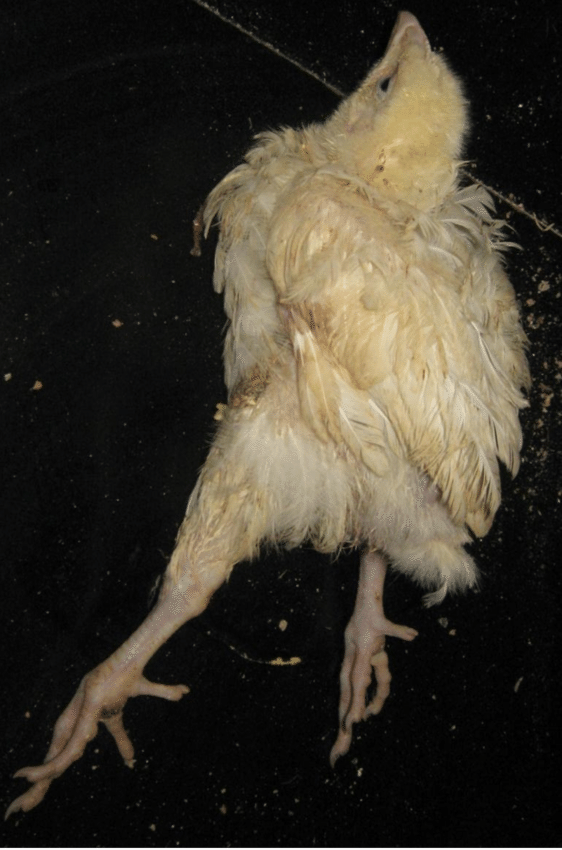Unhealthy: (27, 20, 538, 793)
